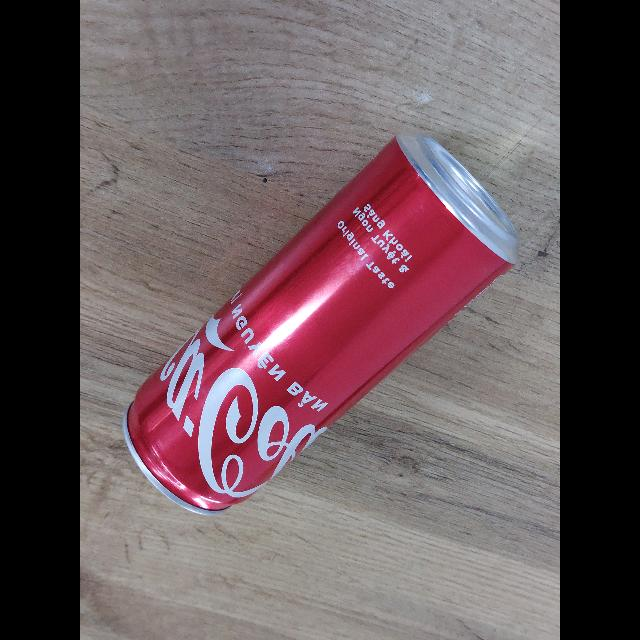coca_cola: (123, 129, 518, 515)
